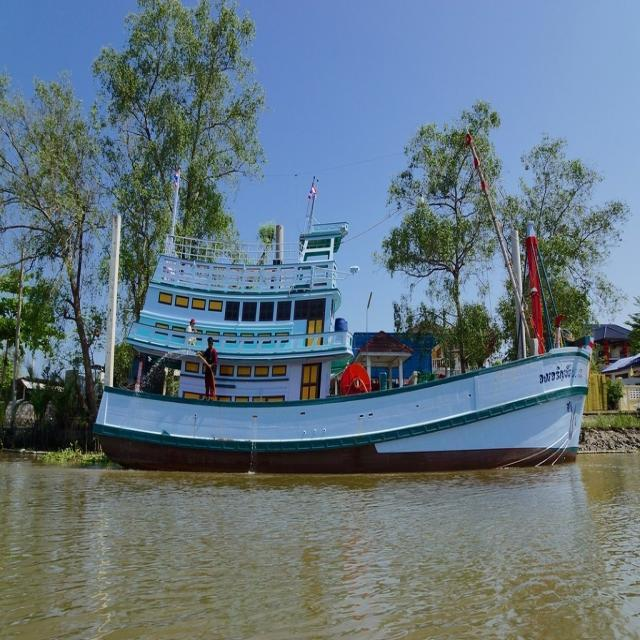Hyacinth: (31, 448, 103, 463)
boat: (99, 341, 606, 479)
